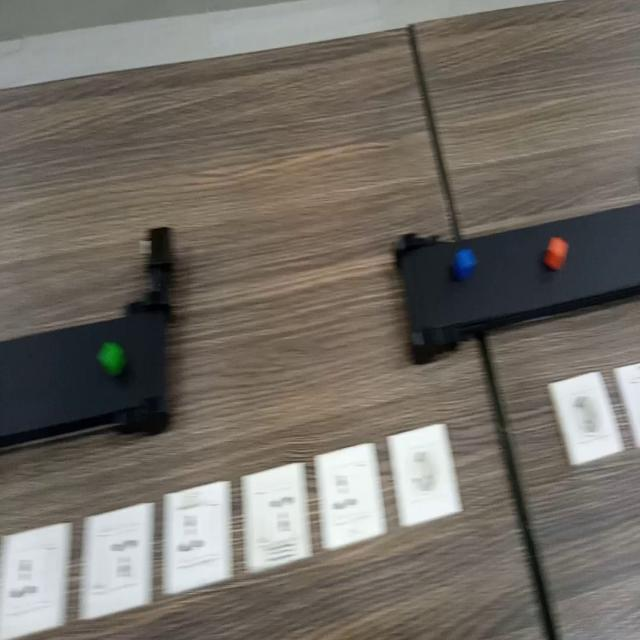cube: (96, 334, 130, 380), (452, 240, 482, 284)
